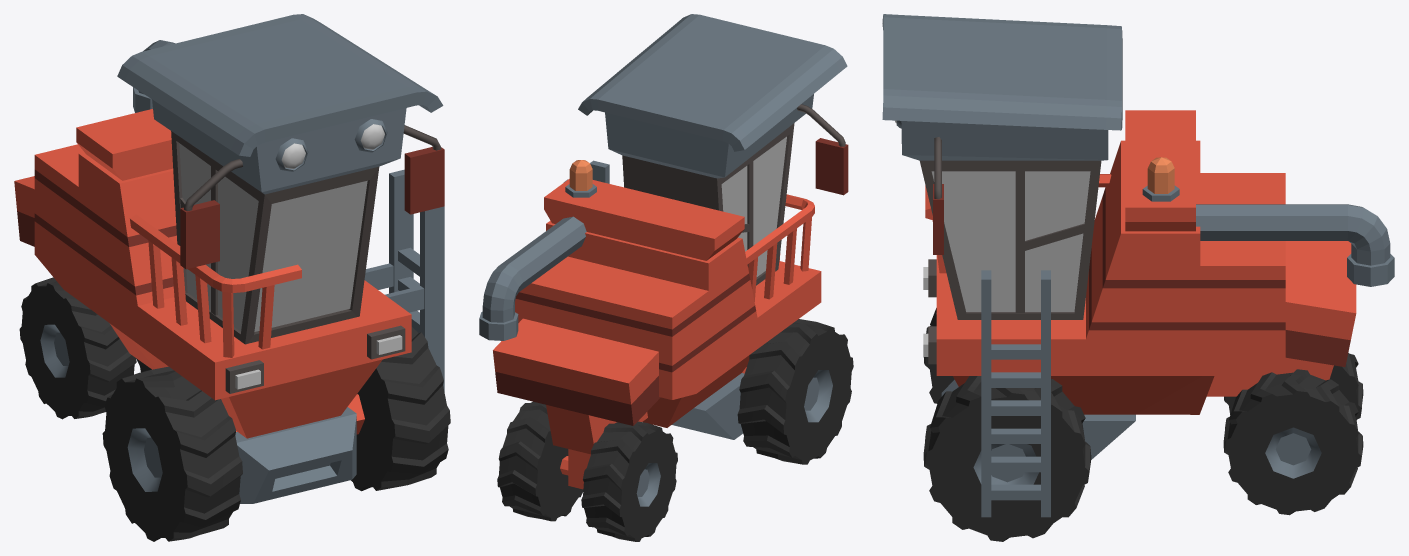
The model's file is harvester.fbx.
The picture shows the model from 3 angles, left to right: view 1: azimuth 30°, elevation 25°; view 2: azimuth 150°, elevation 25°; view 3: azimuth 270°, elevation 25°; orthographic projection. The views are drawn at different scales.
Visible parts, largest first — view 1: Harvester; view 2: Harvester; view 3: Harvester.
Boxes of the visible parts, bbox=[...] form: Harvester: bbox=[14, 14, 450, 541]; Harvester: bbox=[479, 14, 853, 541]; Harvester: bbox=[882, 14, 1394, 541].
Size of the model in its own units: 88.12 by 130 by 141.
